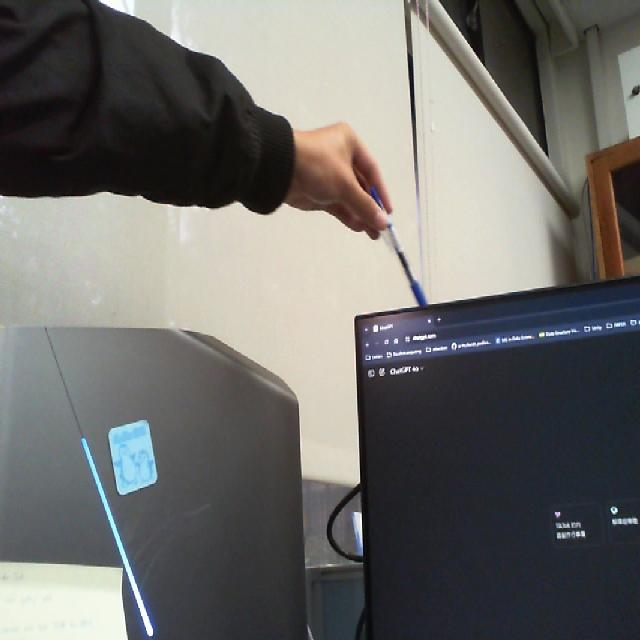Pen: (349, 174, 442, 322)
